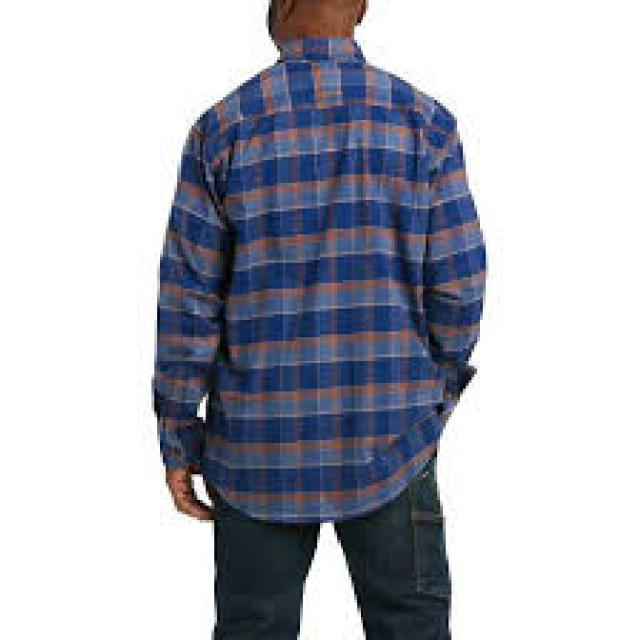plaid: (140, 43, 486, 521)
